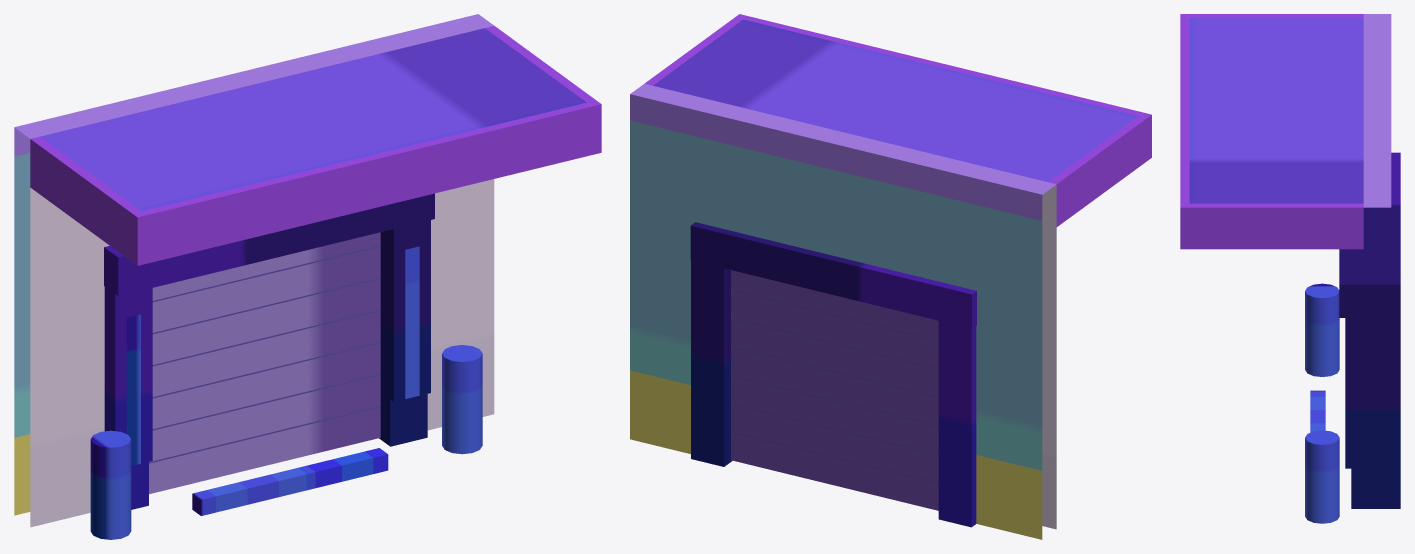
File: truck_parking1.fbx
3 views of the same model, side by side, from view 1: azimuth 30°, elevation 25°; view 2: azimuth 150°, elevation 25°; view 3: azimuth 270°, elevation 25° (orthographic). The views are drawn at different scales.
Visible parts, largest first — view 1: truck_parking1, truck_exit; view 2: truck_parking1, truck_exit; view 3: truck_parking1.
Part boxes in pixels (x1=…): truck_parking1: x1=14, y1=14, x2=601, y2=539; truck_exit: x1=149, y1=232, x2=380, y2=494; truck_parking1: x1=630, y1=14, x2=1151, y2=539; truck_exit: x1=731, y1=270, x2=938, y2=510; truck_parking1: x1=1180, y1=14, x2=1400, y2=523.
Size of the model in its own units: 500 by 240 by 400.
